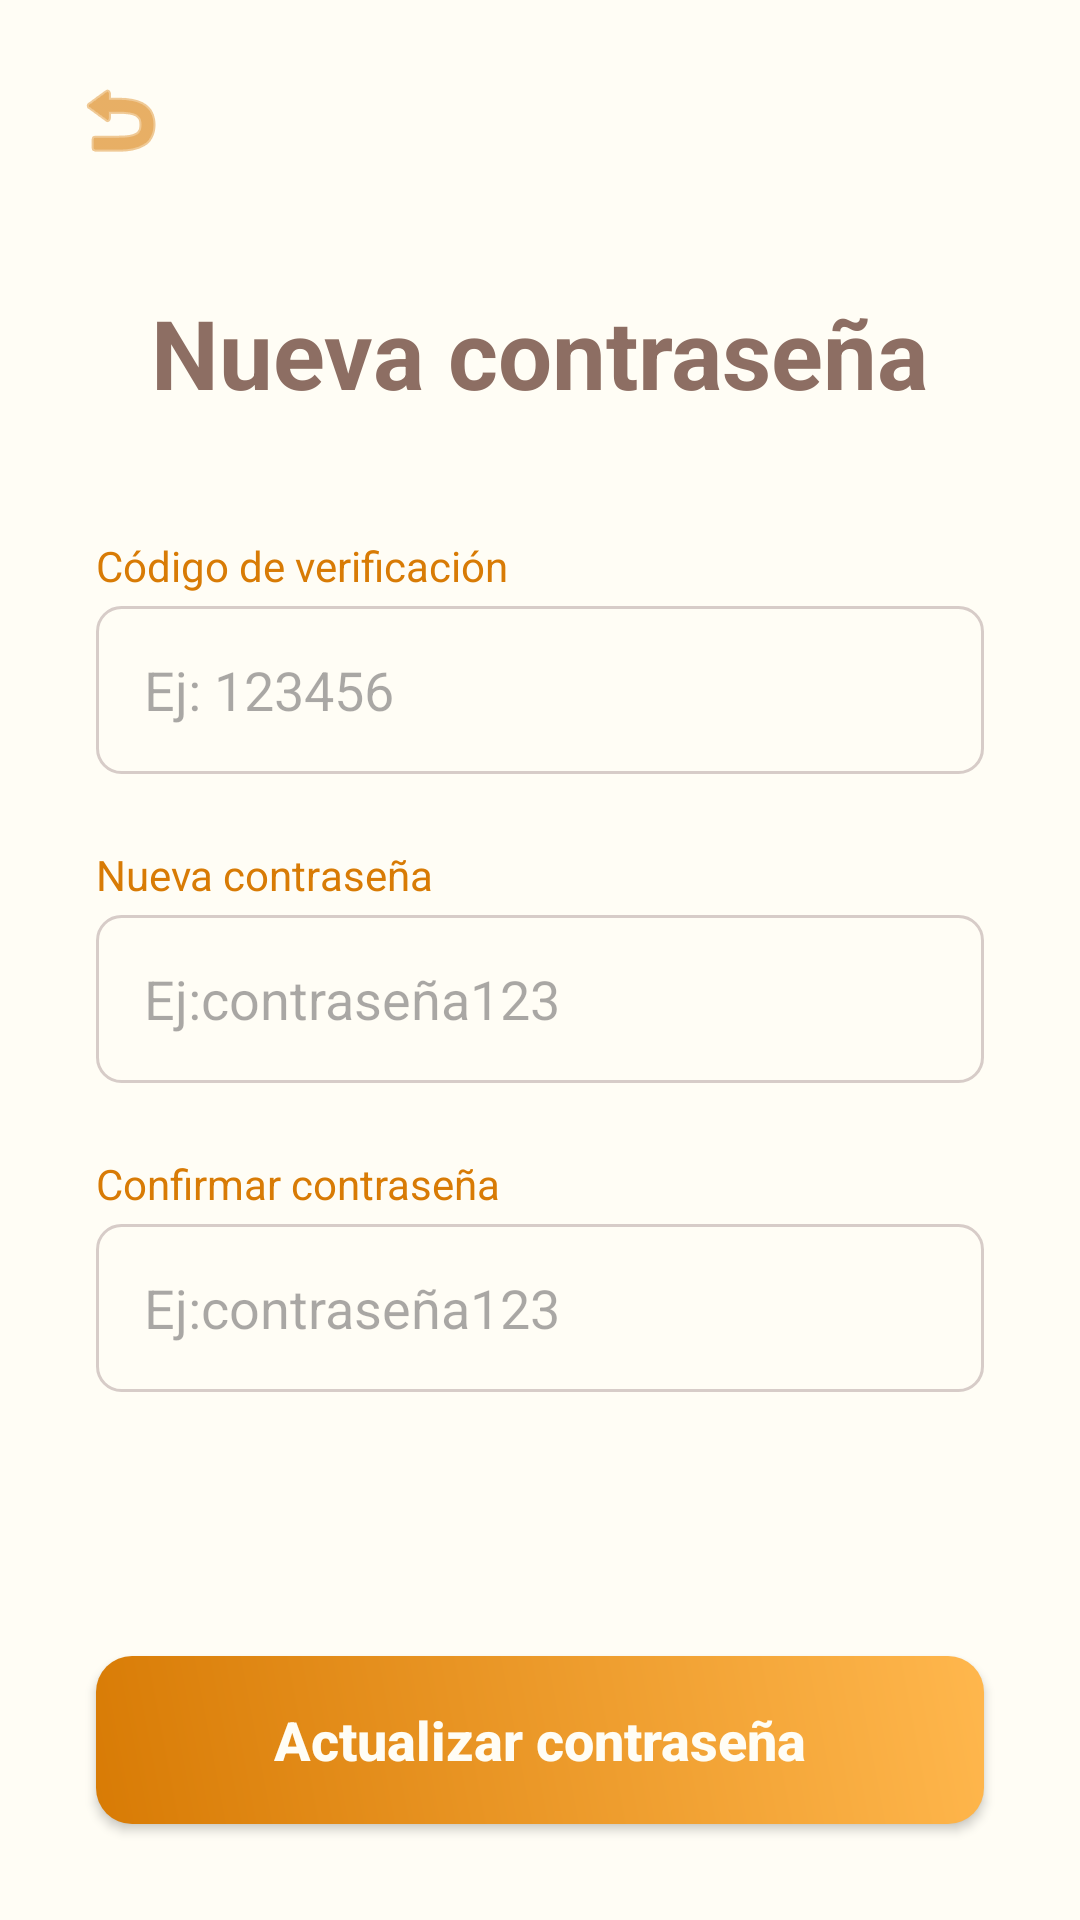

Screen size 1080px x 1920px. Icon name, then its center in pixels as (x,y):
Volver al login: (121,120)
